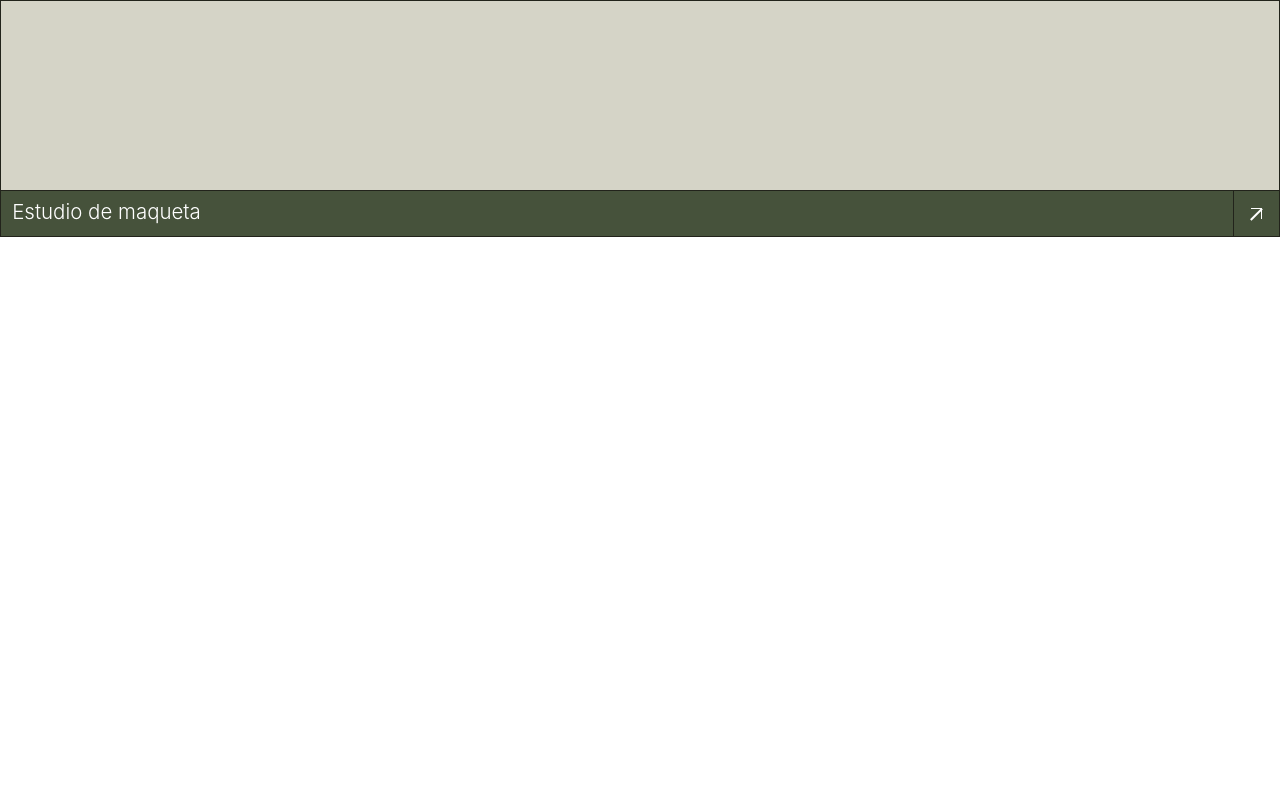
it: muestra los datos en orden antes de la descripción
Click the button "Estudio de maqueta" at (640, 118), box x1=0 y1=0 x2=1279 y2=237
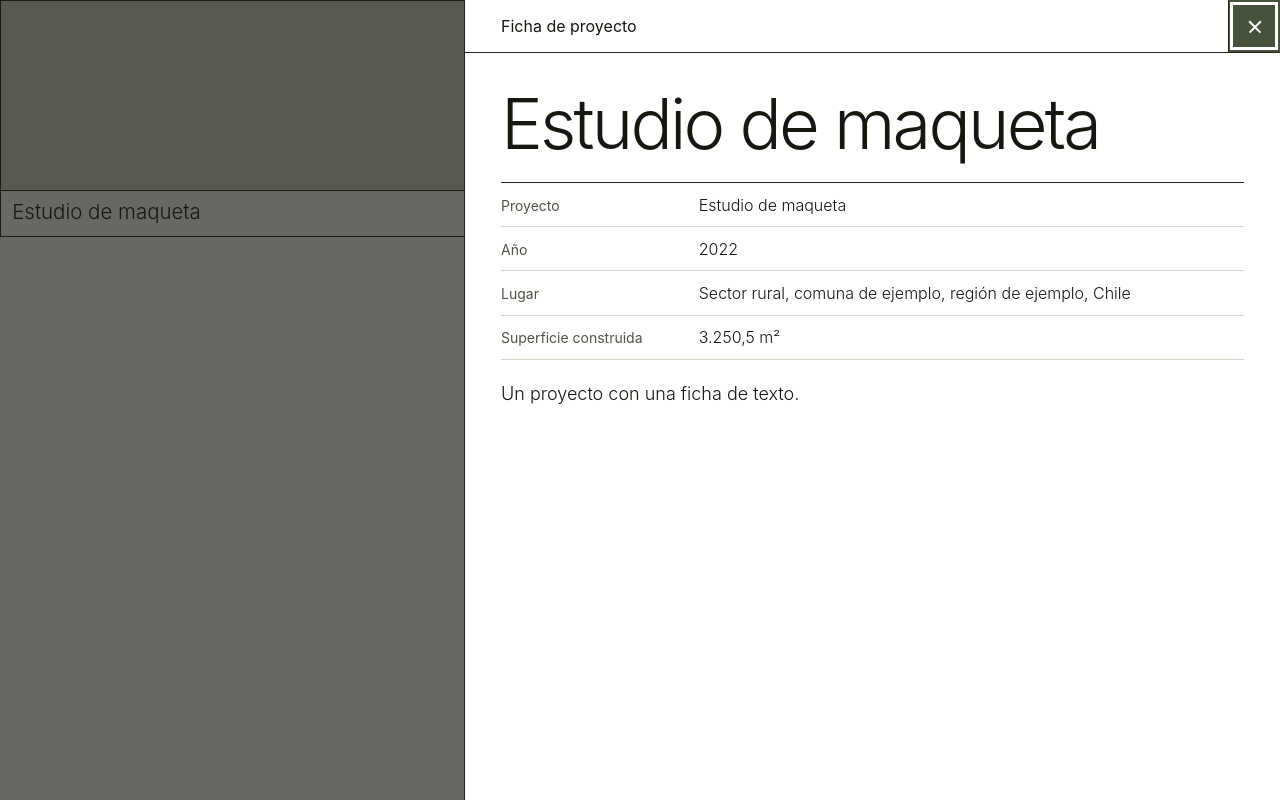
Check: the element that starts with "Proyecto" is shown, box x1=501 y1=182 x2=1244 y2=360
